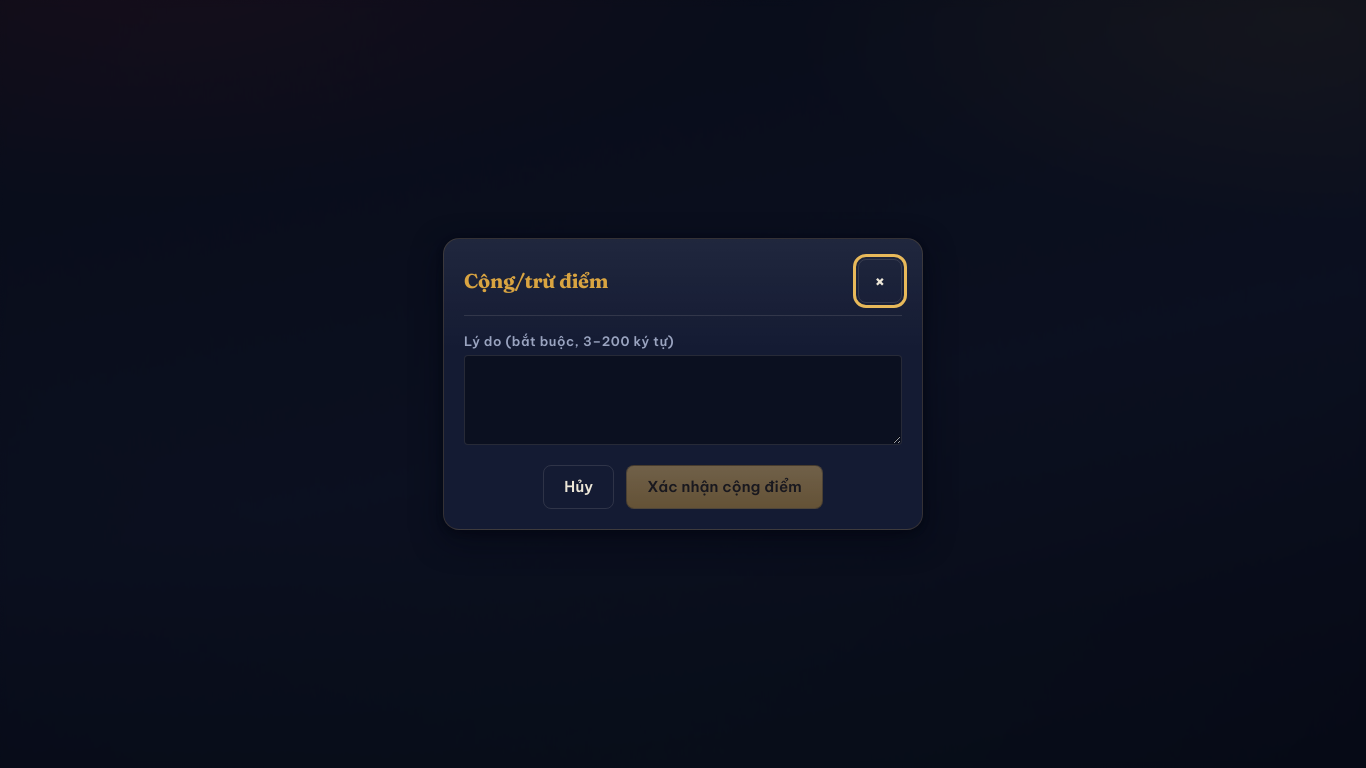
Test: ReasonDialog › falls back to the generic line for a code it has no words for
The width and height of the screenshot is (1366, 768).
Type "khóa" into the text box labelled "Lý do (bắt buộc, 3–200 ký tự)" at (683, 400), box [464,355,902,445]
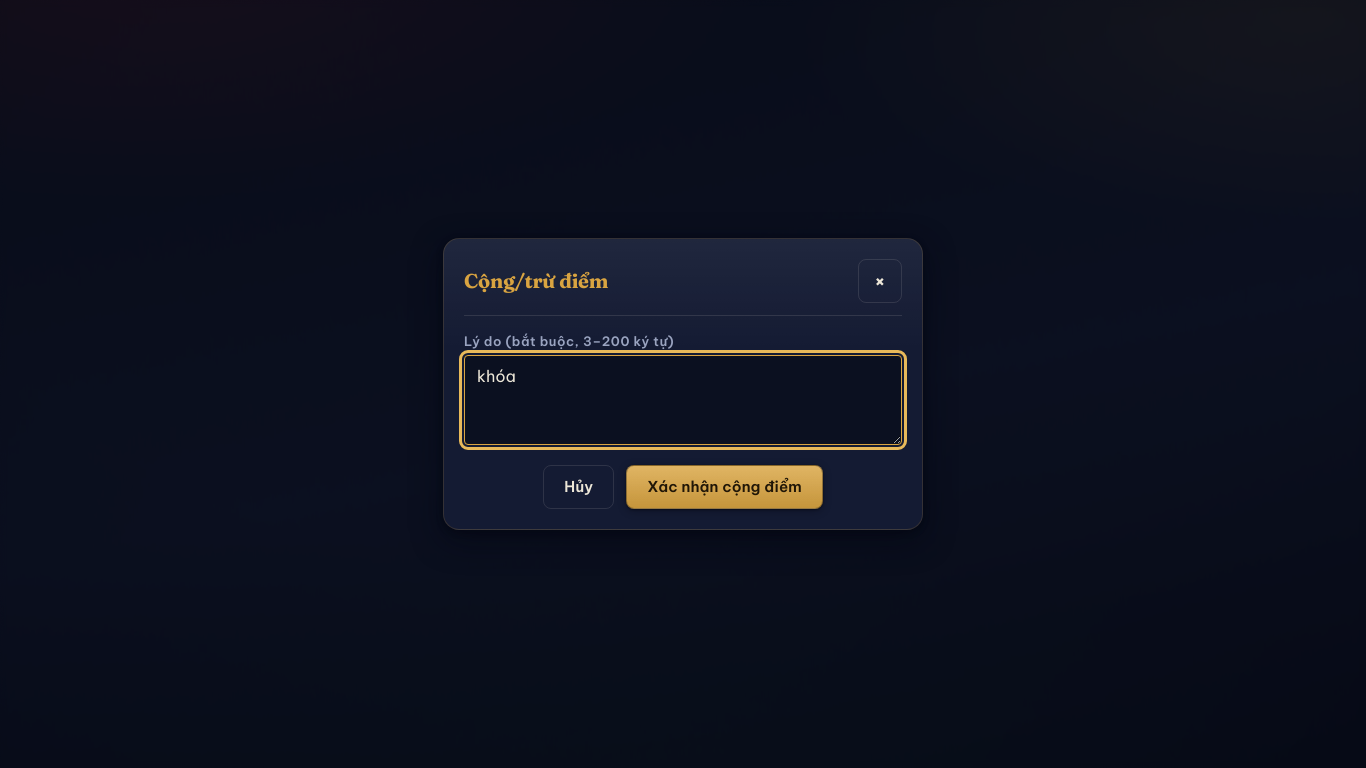
Click the button "Xác nhận cộng điểm" at (725, 487), box [626,465,823,509]
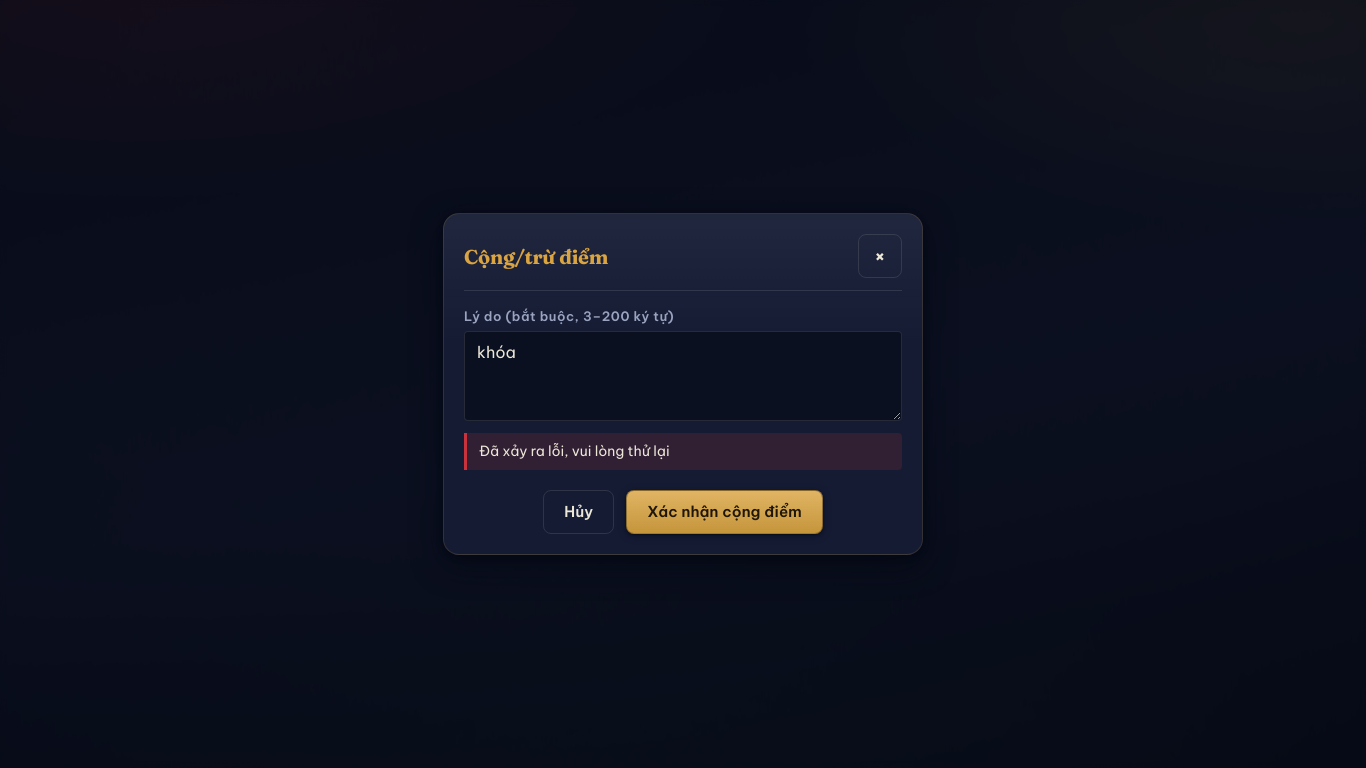
Expected: the message "Đã xảy ra lỗi, vui lòng thử lại" is shown, [464,433,902,470]
